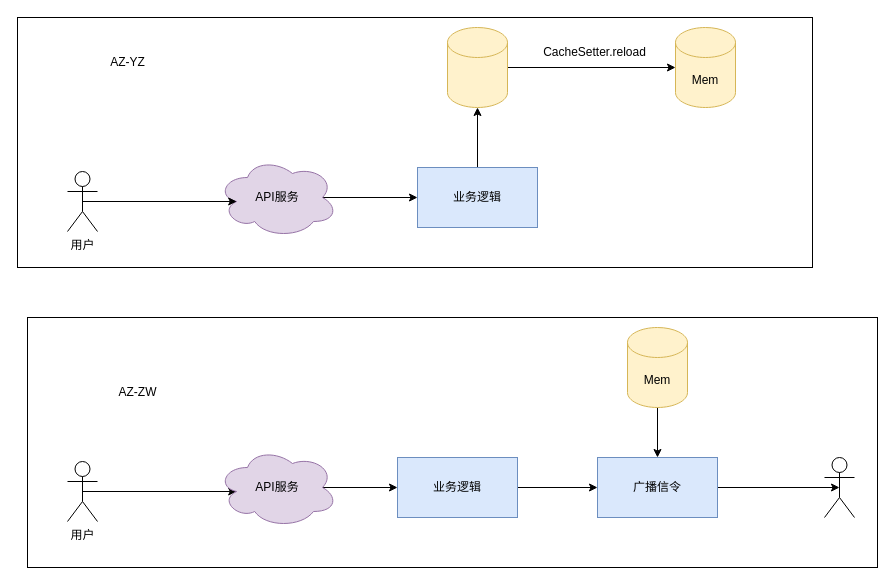
Image size: 895x585. Some labels were removed from this diagram. The shapes that lost their labels are listed below. From the top down, each one's centre as x and y in pixels, then its label:
At point 477,67: "MySQL".
At point 839,487: "直播间".
